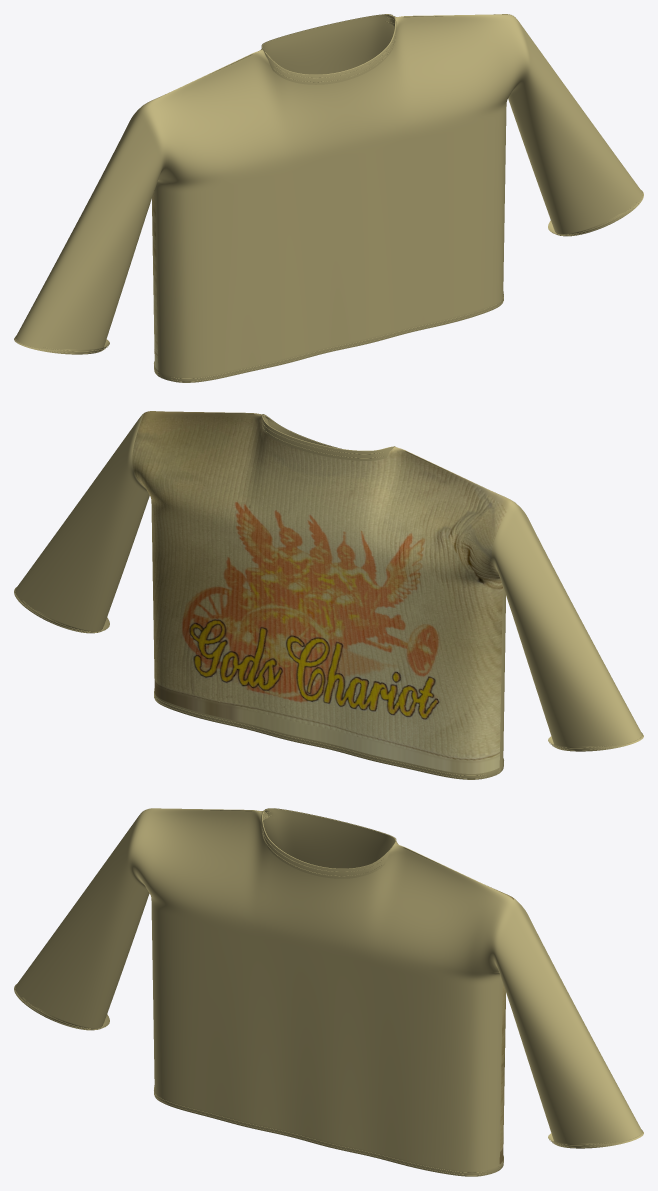
File: gods-chariot-crop-tailored-v6.glb
3 renders of one model, top to bottom at view 1: azimuth 30°, elevation 25°; view 2: azimuth 150°, elevation 25°; view 3: azimuth 330°, elevation 25°, orthographic.
Parts seen in each view (by area): view 1: front cotton, Sleeve cotton, Interior cotton, Bound collar and folded hems, Double-needle stitching, back cotton; view 2: back cotton, Sleeve cotton, Bound collar and folded hems, Double-needle stitching, front cotton; view 3: front cotton, Sleeve cotton, Interior cotton, Bound collar and folded hems, Double-needle stitching, back cotton.
Boxes of the visible parts, bbox=[...] form: front cotton: bbox=[145, 14, 525, 376]; Sleeve cotton: bbox=[15, 16, 642, 349]; Interior cotton: bbox=[212, 14, 442, 74]; Bound collar and folded hems: bbox=[14, 14, 643, 382]; Double-needle stitching: bbox=[15, 17, 642, 381]; back cotton: bbox=[144, 14, 509, 369]; back cotton: bbox=[132, 411, 512, 773]; Sleeve cotton: bbox=[15, 413, 642, 746]; Bound collar and folded hems: bbox=[14, 414, 643, 779]; Double-needle stitching: bbox=[15, 416, 642, 778]; front cotton: bbox=[148, 411, 513, 766]; front cotton: bbox=[132, 808, 513, 1170]; Sleeve cotton: bbox=[15, 810, 642, 1143]; Interior cotton: bbox=[210, 808, 440, 868]; Bound collar and folded hems: bbox=[14, 808, 643, 1176]; Double-needle stitching: bbox=[15, 812, 642, 1175]; back cotton: bbox=[261, 811, 514, 1163].
Size of the model in its own units: 0.8801 by 0.4067 by 0.0968.
Materials: 6 (1 with a texture image).
